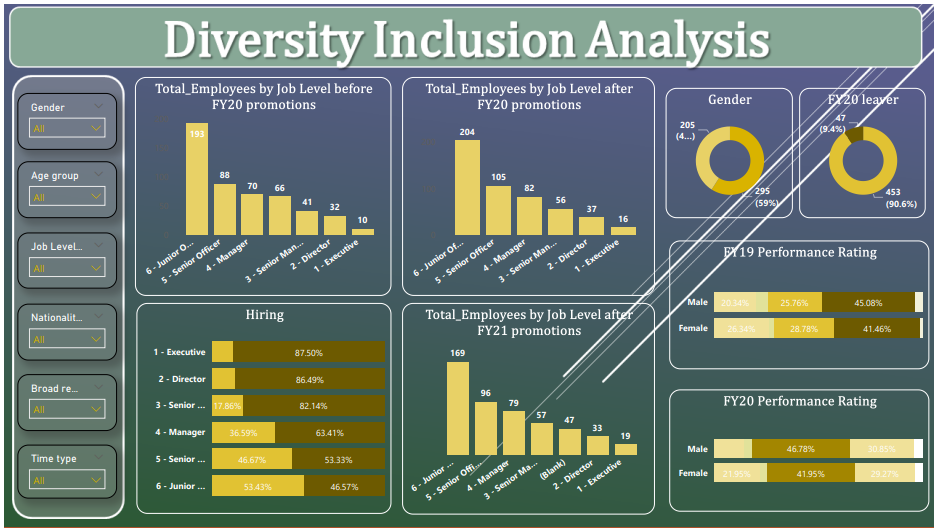

What the dashboard file says about the page in this screenshot:
{"tool":"powerbi","page":{"name":"Page 1","canvas":[1280,720],"ordinal":0},"visuals":[{"type":"slicer","fields":{"Values":["Pharma Group AG.Gender"]},"box":[18,122.1,137.3,77.7],"z":0},{"type":"slicer","fields":{"Values":["Pharma Group AG.Age group"]},"box":[18,216.4,137.3,77.7],"z":1000},{"type":"slicer","fields":{"Values":["Pharma Group AG.Nationality 1"]},"box":[18,412,137.3,77.7],"z":2000},{"type":"slicer","fields":{"Values":["Pharma Group AG.Broad region group: nationality 1","Pharma Group AG.Gender"]},"box":[18,509.1,137.3,77.7],"z":3000},{"type":"slicer","fields":{"Values":["Pharma Group AG.Job Level before FY20 promotions"]},"box":[18,313.5,137.3,77.7],"z":4000},{"type":"columnChart","fields":{"Category":["Pharma Group AG.Job Level before FY20 promotions"],"Y":["Pharma Group AG.Total_Employees"]},"box":[180.3,99.9,352.4,301],"z":5000},{"type":"columnChart","fields":{"Category":["Pharma Group AG.Job Level after FY20 promotions"],"Y":["Pharma Group AG.Total_Employees"]},"box":[548,99.9,348.2,301],"z":6000},{"type":"slicer","fields":{"Values":["Pharma Group AG.Time type"]},"box":[18,606.2,137.3,73.5],"z":7000},{"type":"donutChart","title":"Gender","fields":{"Category":["Pharma Group AG.Gender"],"Y":["Pharma Group AG.Total_Employees"]},"box":[911.4,115.1,174.8,179],"z":8000},{"type":"donutChart","title":"FY20 leaver","fields":{"Category":["Pharma Group AG.FY20 leaver?"],"Y":["Pharma Group AG.Total_Employees"]},"box":[1094.6,115.1,174.8,179],"z":8001},{"type":"columnChart","fields":{"Category":["Pharma Group AG.Job Level after FY21 promotions"],"Y":["Pharma Group AG.Total_Employees"]},"box":[548,410.6,348.2,291.3],"z":8002},{"type":"hundredPercentStackedBarChart","title":"Hiring ","fields":{"Category":["Pharma Group AG.Job Level after FY20 promotions"],"Series":["Pharma Group AG.Gender"],"Y":["Pharma Group AG.Total_Employees"]},"box":[181.7,410.6,351,289.9],"z":8003},{"type":"hundredPercentStackedBarChart","title":" FY19 Performance Rating","fields":{"Category":["Pharma Group AG.Gender"],"Y":["Pharma Group AG.Total_Employees"],"Series":["Pharma Group AG.FY19 Performance Rating"]},"box":[915.6,324.6,357.9,177.6],"z":8004},{"type":"hundredPercentStackedBarChart","title":"FY20 Performance Rating","fields":{"Y":["Pharma Group AG.Total_Employees"],"Category":["Pharma Group AG.Gender"],"Series":["Pharma Group AG.FY20 Performance Rating"]},"box":[915.6,529.9,357.9,167.9],"z":8005}]}

Visuals, with their boxes in screenshot pixels (x1, y1, x2, y2), scaled from the page's 1280x720 canvas onto the 938x531 screenshot:
slicer - Pharma Group AG.Gender: select_region(13, 90, 114, 147)
slicer - Pharma Group AG.Age group: select_region(13, 160, 114, 217)
slicer - Pharma Group AG.Nationality 1: select_region(13, 304, 114, 361)
slicer - Pharma Group AG.Broad region group: nationality 1 x Pharma Group AG.Gender: select_region(13, 375, 114, 433)
slicer - Pharma Group AG.Job Level before FY20 promotions: select_region(13, 231, 114, 289)
columnChart - Pharma Group AG.Job Level before FY20 promotions x Pharma Group AG.Total_Employees: select_region(132, 74, 390, 296)
columnChart - Pharma Group AG.Job Level after FY20 promotions x Pharma Group AG.Total_Employees: select_region(402, 74, 657, 296)
slicer - Pharma Group AG.Time type: select_region(13, 447, 114, 501)
"Gender" donutChart: select_region(668, 85, 796, 217)
"FY20 leaver" donutChart: select_region(802, 85, 930, 217)
columnChart - Pharma Group AG.Job Level after FY21 promotions x Pharma Group AG.Total_Employees: select_region(402, 303, 657, 518)
"Hiring " hundredPercentStackedBarChart: select_region(133, 303, 390, 517)
" FY19 Performance Rating" hundredPercentStackedBarChart: select_region(671, 239, 933, 370)
"FY20 Performance Rating" hundredPercentStackedBarChart: select_region(671, 391, 933, 515)
